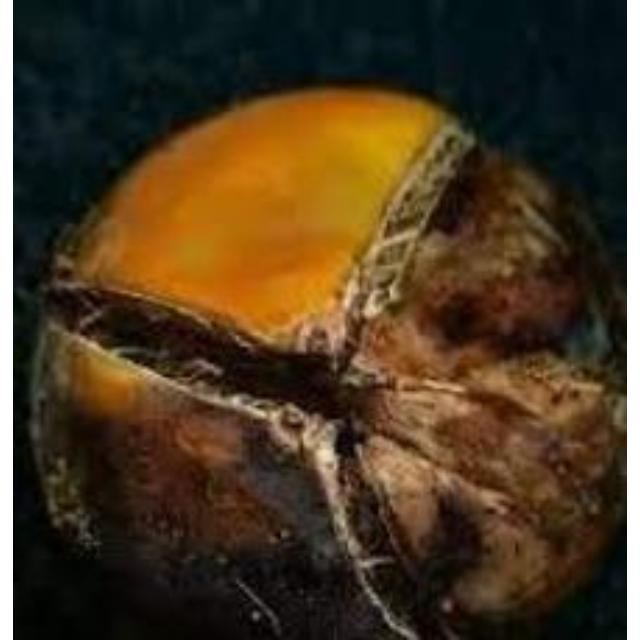damaged: (30, 87, 625, 637)
